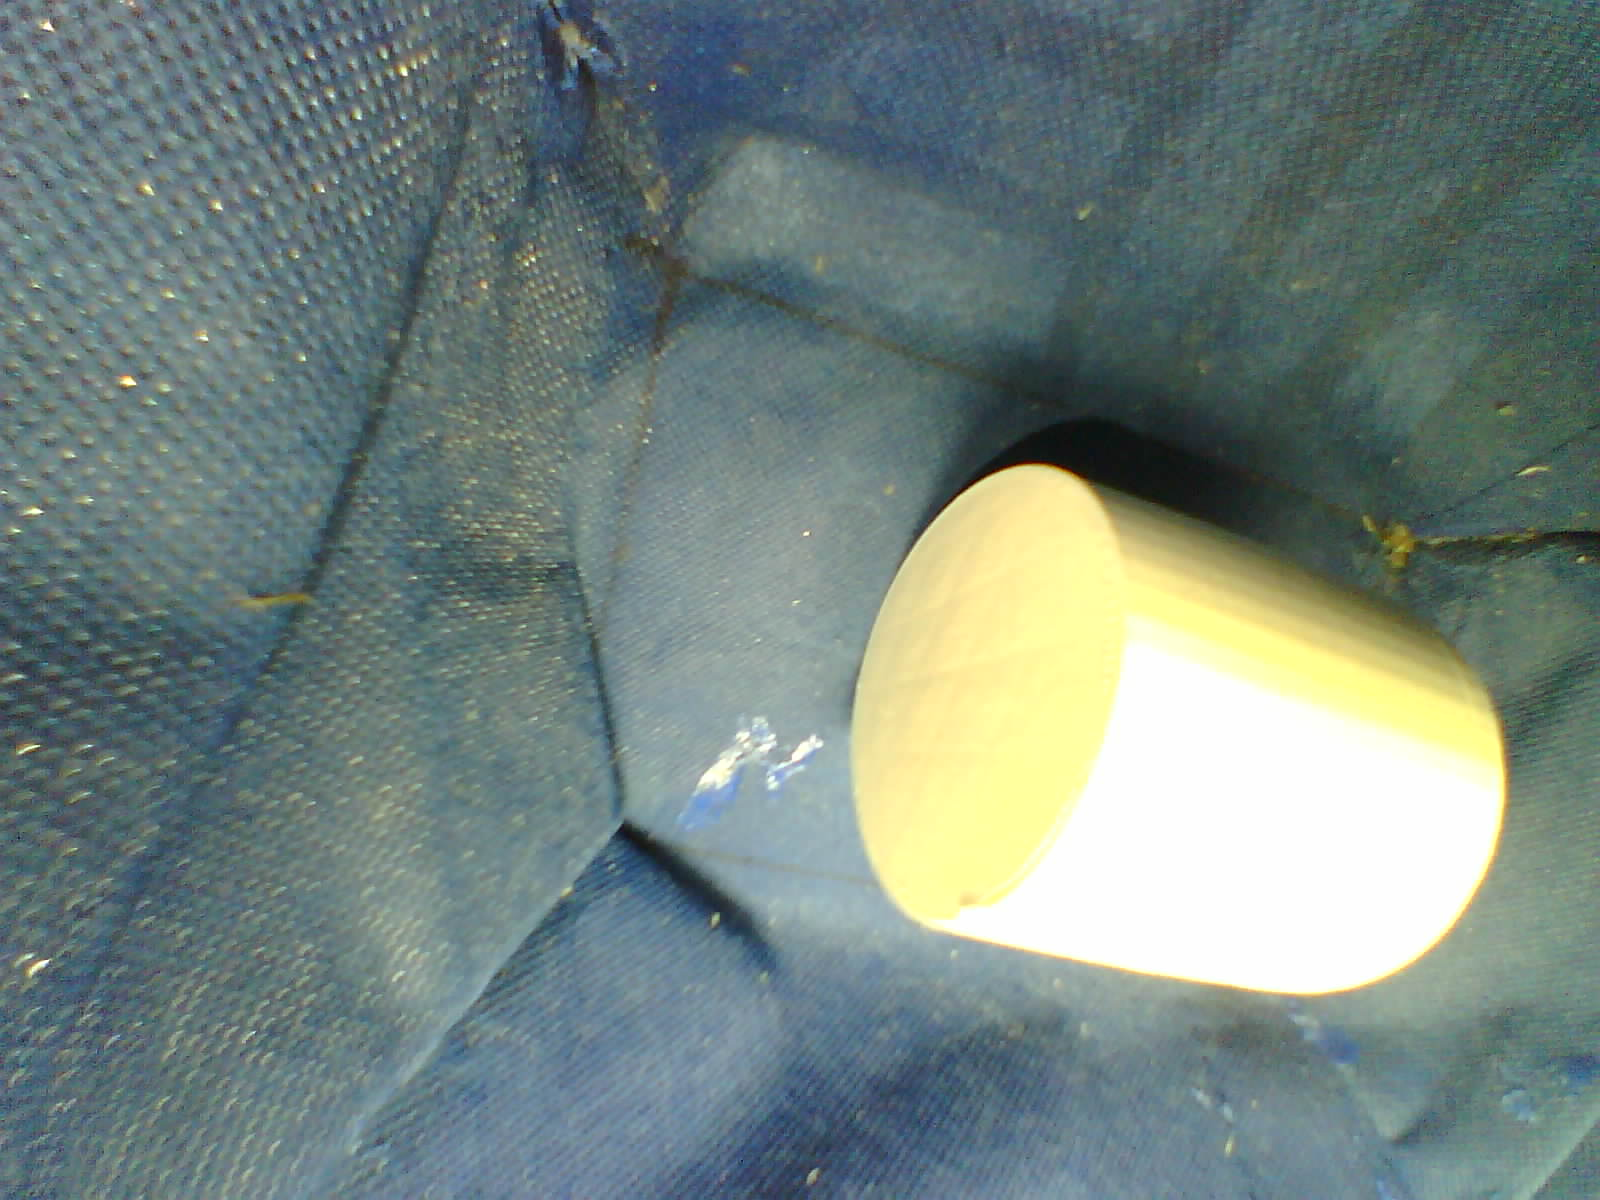cylinder-hard: (839, 453, 1527, 1017)
